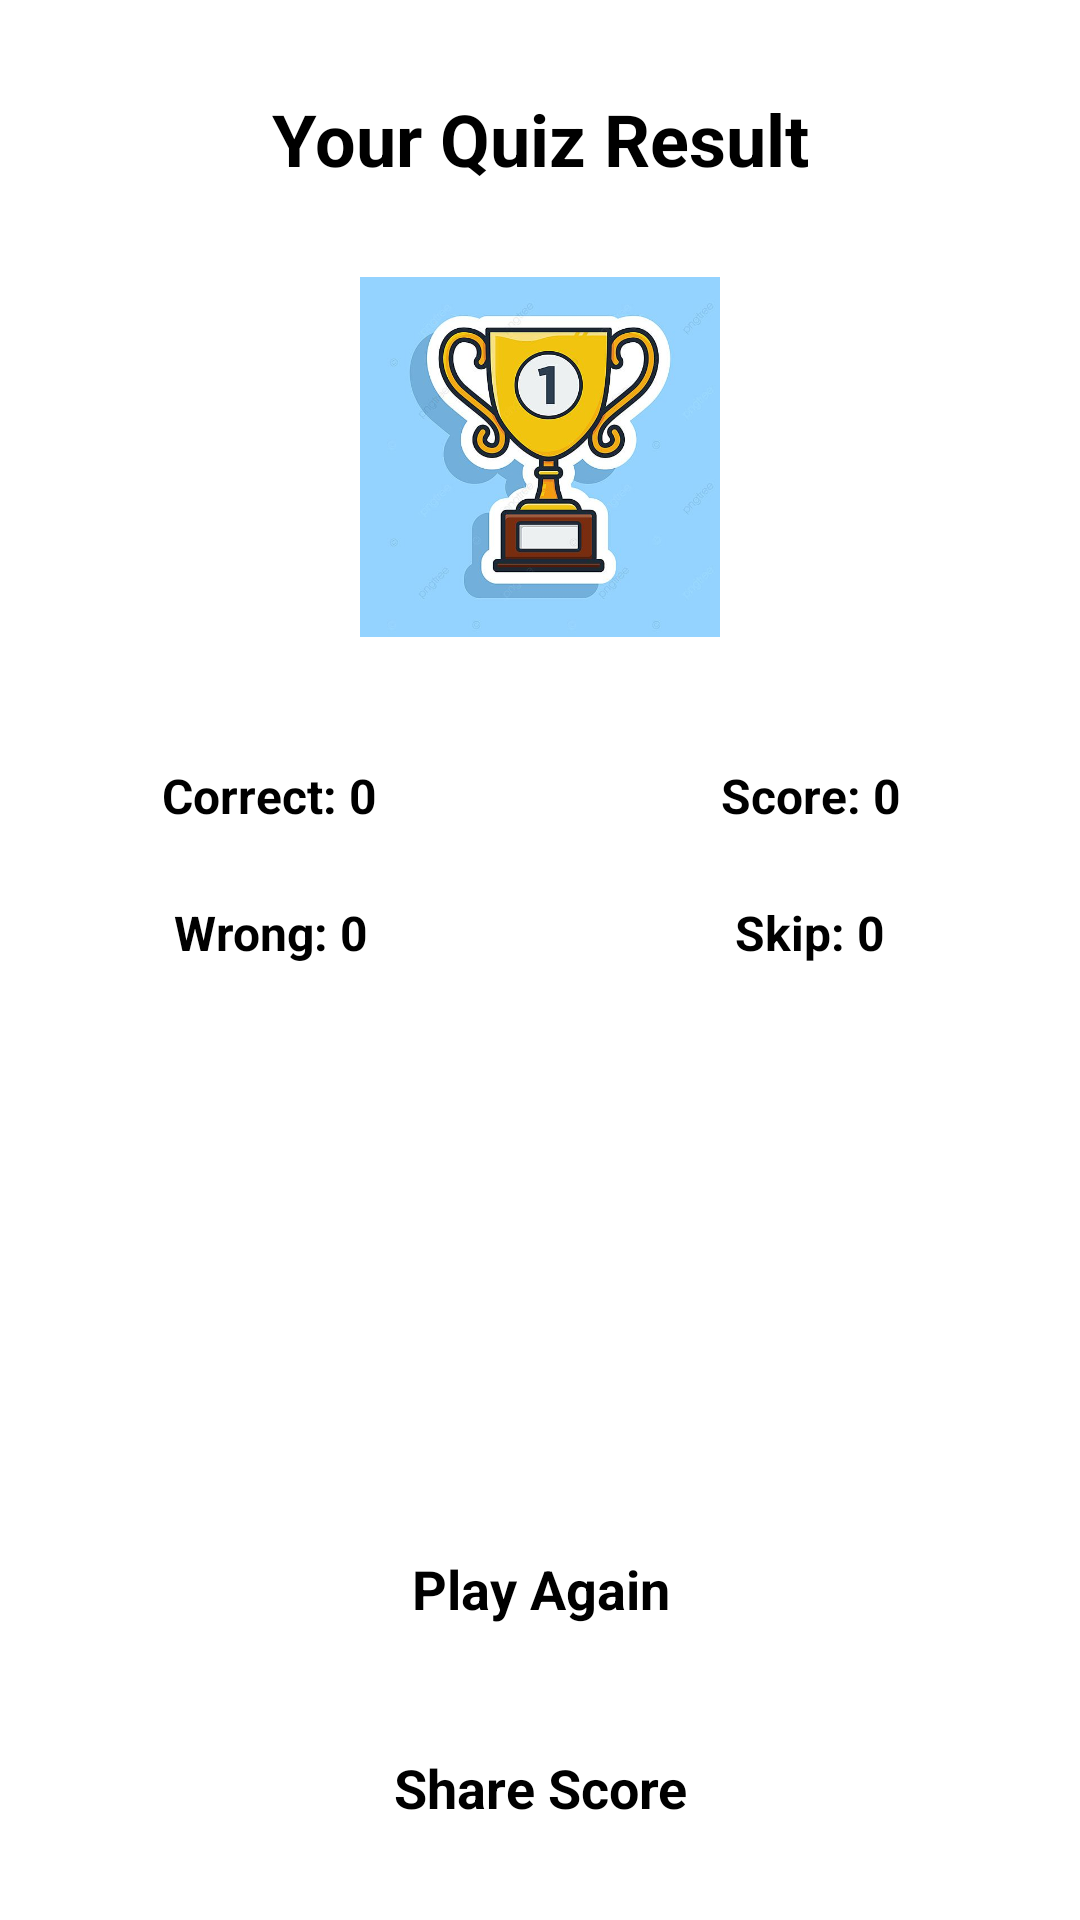

Where to tap for icons on this 1080px x 1920px app screen, as [x,y]:
win: [540,457]
